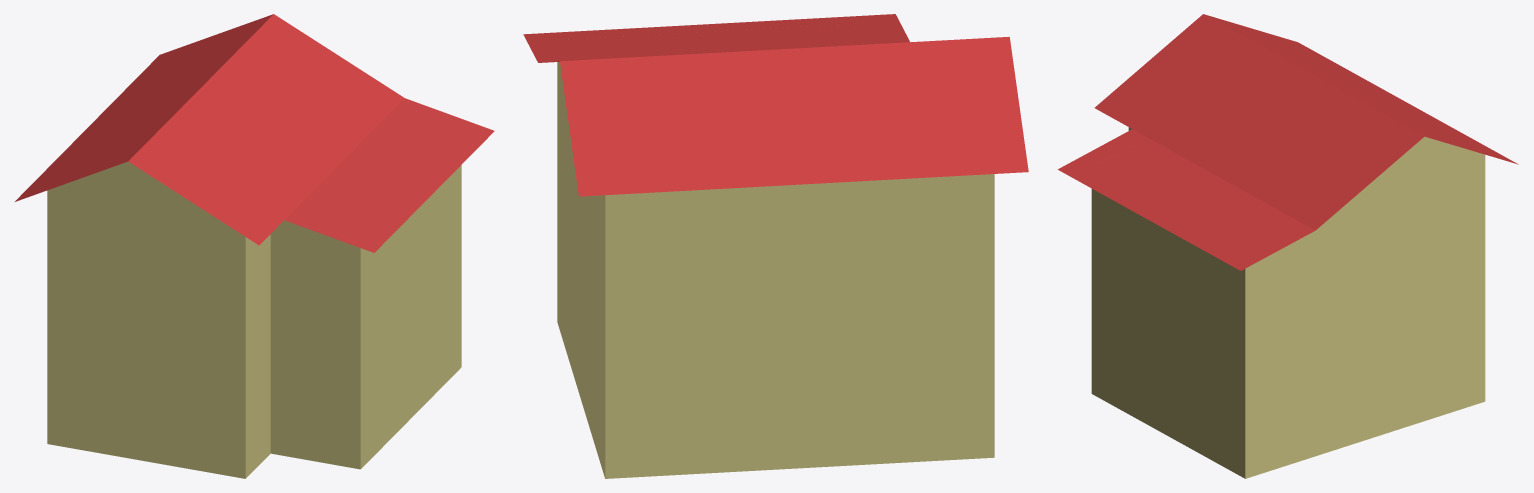
3 views of the same model, side by side, from view 1: azimuth 30°, elevation 25°; view 2: azimuth 150°, elevation 25°; view 3: azimuth 270°, elevation 25° (orthographic). The views are drawn at different scales.
Bounding box in the file's own units: 10.28 × 9.44 × 6.71.
